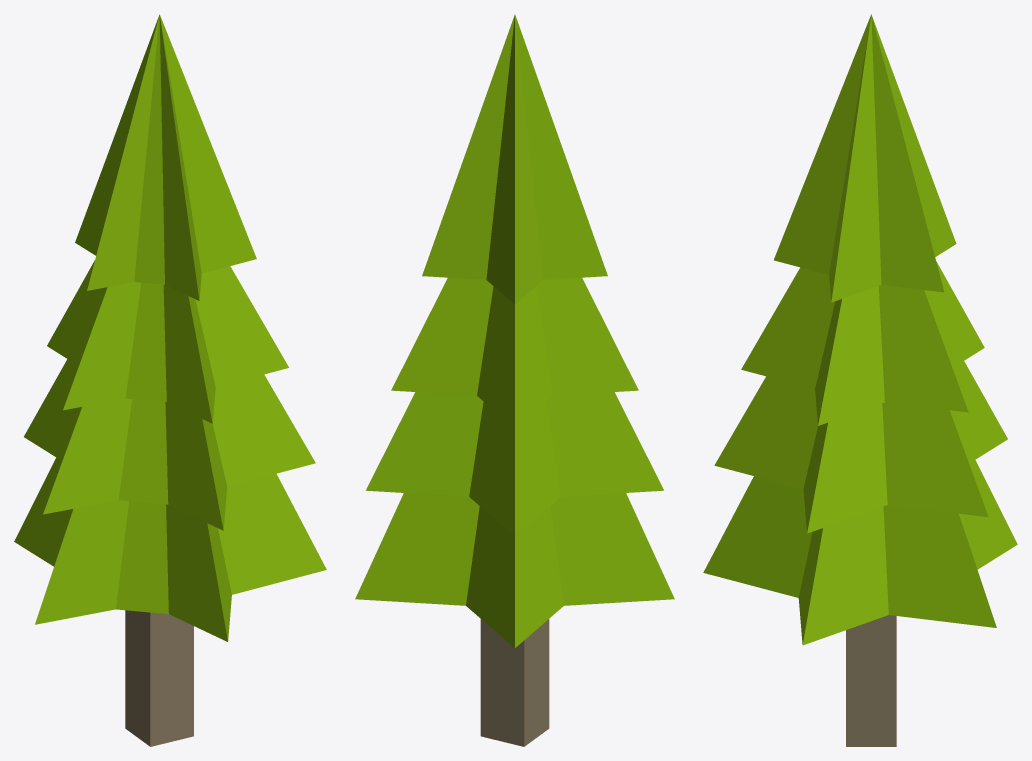
File: tree_pine_star_7.fbx
3 renders of one model, left to right at view 1: azimuth 30°, elevation 25°; view 2: azimuth 150°, elevation 25°; view 3: azimuth 270°, elevation 25°, orthographic.
Visible parts, largest first — view 1: tree_pine_star_7; view 2: tree_pine_star_7; view 3: tree_pine_star_7.
Part boxes in pixels (left/top/right/bottom): tree_pine_star_7: left=14, top=14, right=326, bottom=746; tree_pine_star_7: left=355, top=14, right=674, bottom=746; tree_pine_star_7: left=703, top=14, right=1017, bottom=746.
Size of the model in its own units: 77.84 by 194 by 76.56.
